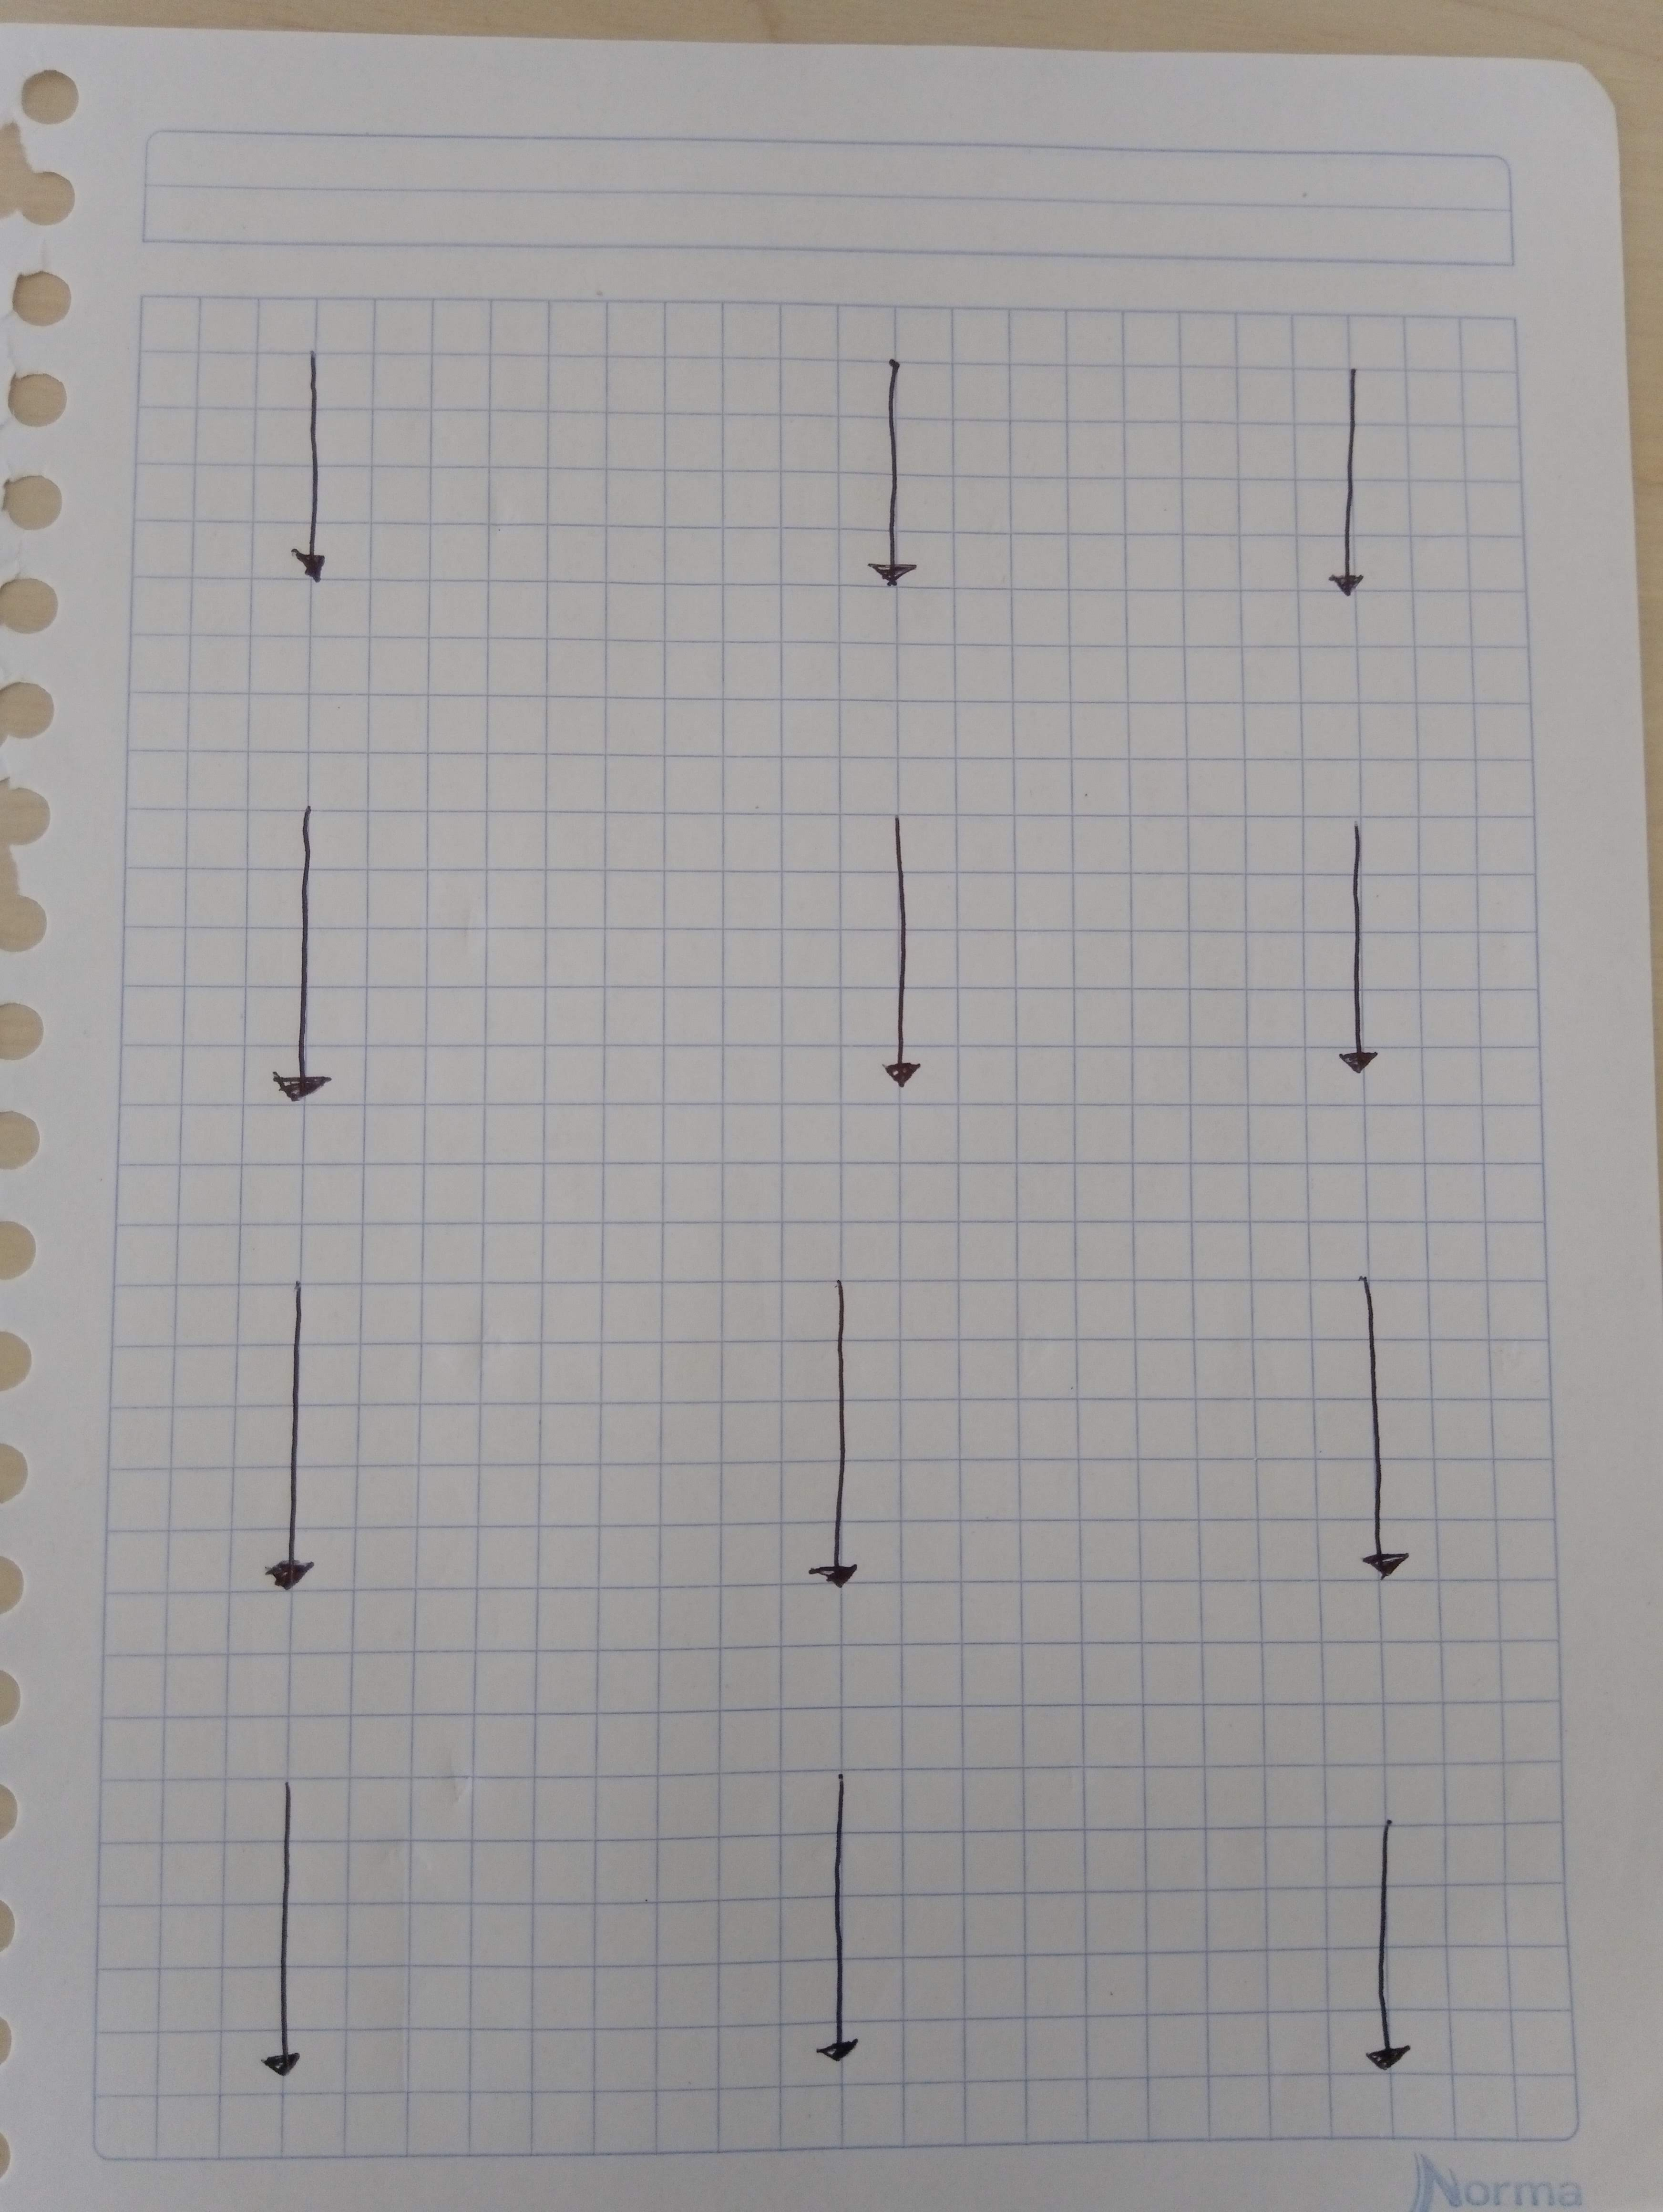arrow_line_down: (1293, 1254, 1471, 1622), (751, 1271, 894, 1625), (231, 1274, 374, 1613), (245, 789, 370, 1145), (845, 803, 989, 1114), (1298, 368, 1436, 611), (781, 1760, 880, 2093), (236, 1765, 330, 2116), (1328, 829, 1448, 1096), (1349, 1812, 1445, 2099), (278, 339, 365, 602), (851, 353, 942, 581)
